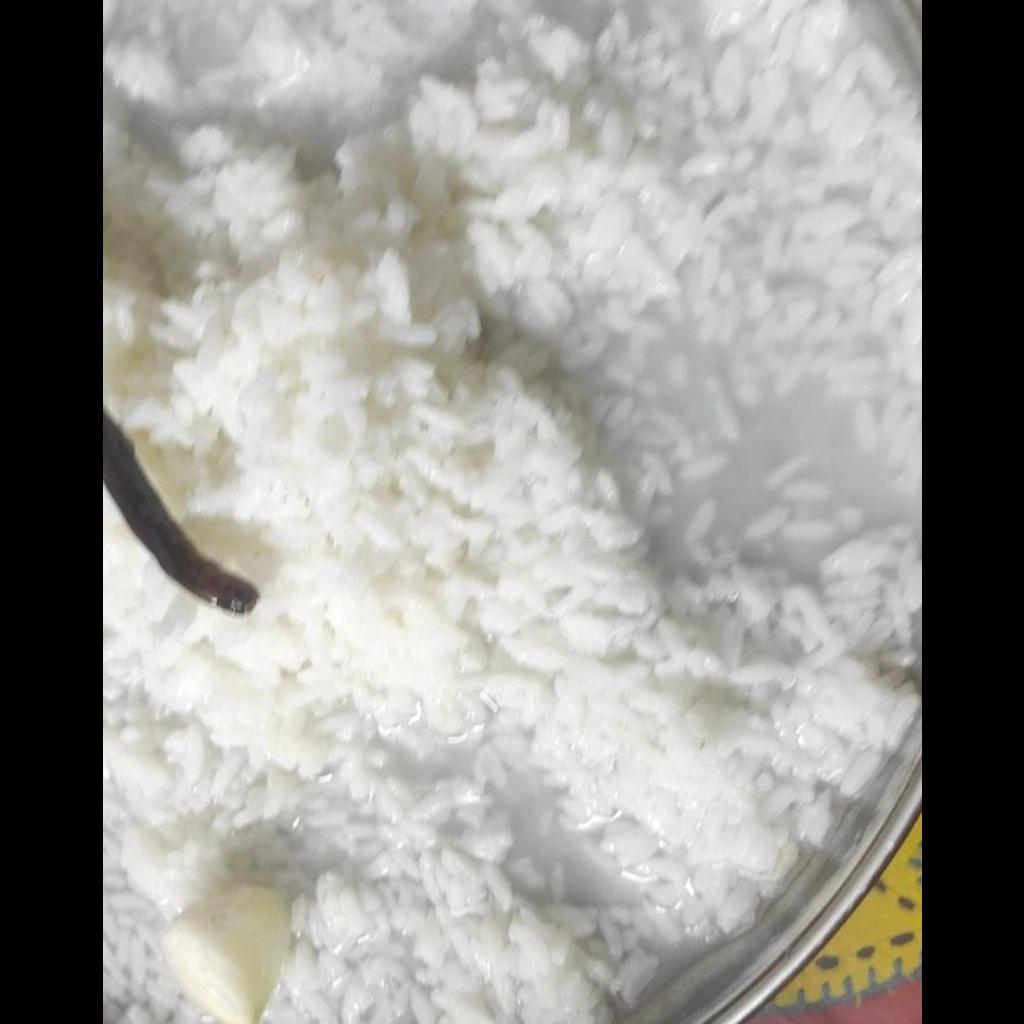rice: (104, 2, 920, 1022)
